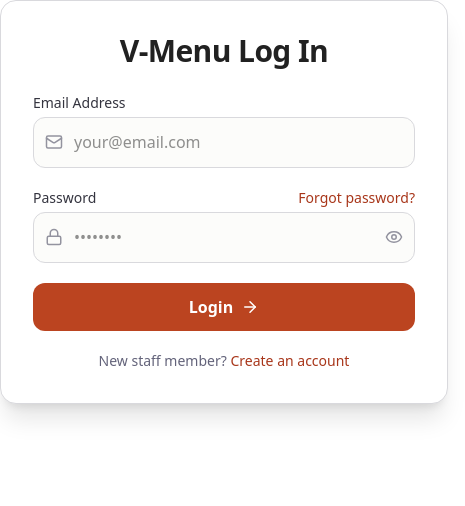
it: forms that set a password (SEC-08) › creating a staff account at /login refuses a 7-character password before asking Firebase
Click the button "Create an account".
click(290, 361)  # box 230,351 -> 350,371
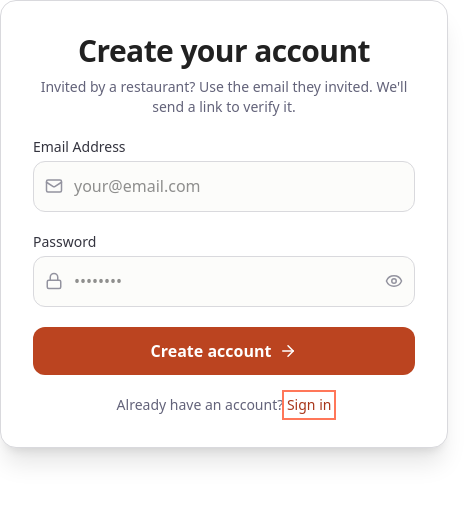
Type "dara@x.test" into the field labelled "Email Address".
click(224, 186); type("dara@x.test")  # box 33,161 -> 415,212
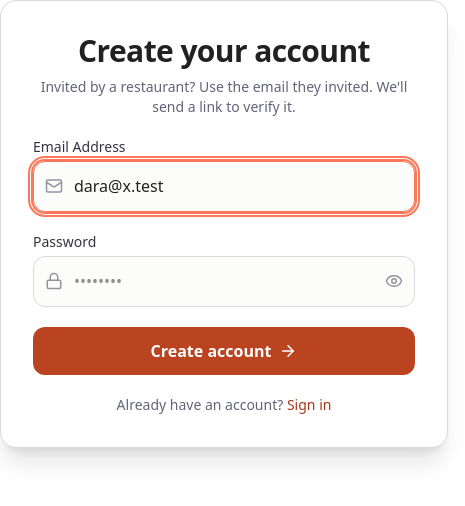
Type "abc1234" into the password field labelled "Password".
click(224, 281); type("abc1234")  # box 33,256 -> 415,307
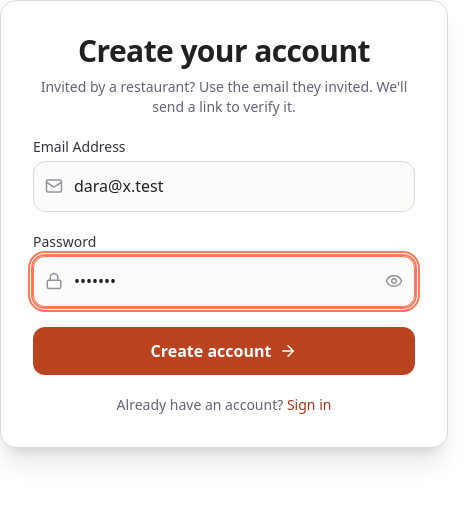
Click the button "Create account".
click(224, 351)  # box 33,327 -> 415,375
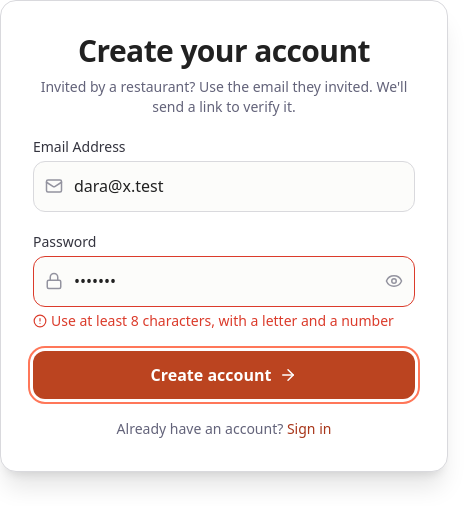
Result: the text "Use at least 8 characters, with a letter and a number" is shown at 33,311 -> 415,331
